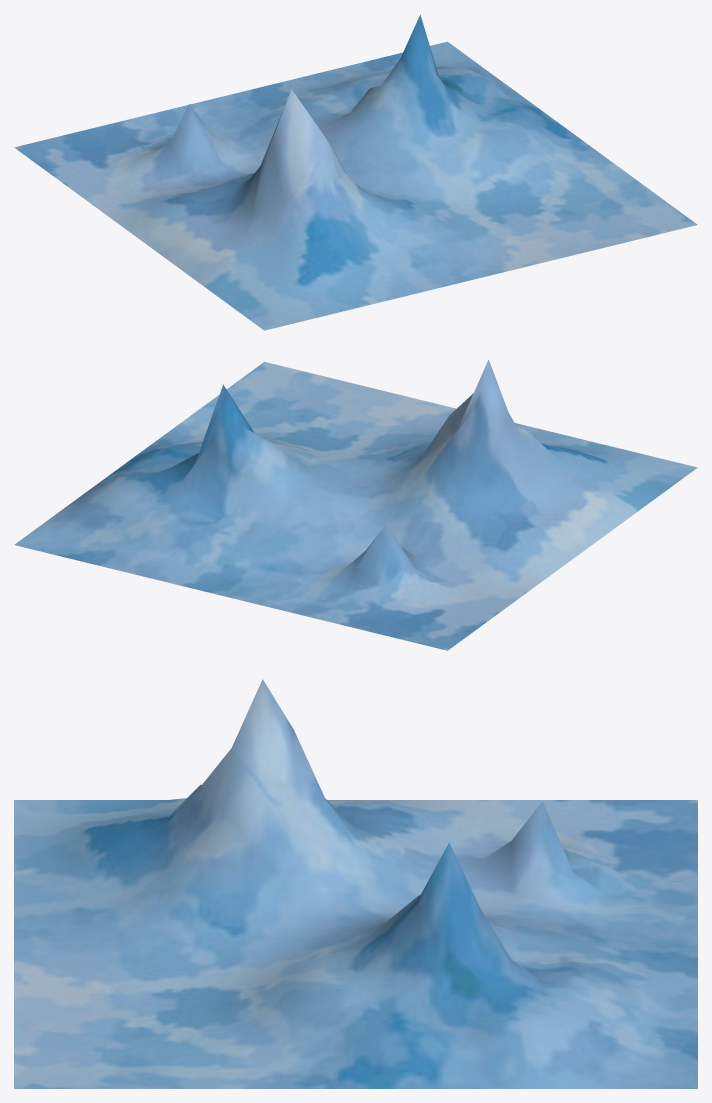
The model's file is caveterrain3.fbx.
The picture shows the model from 3 angles, top to bottom: view 1: azimuth 30°, elevation 25°; view 2: azimuth 150°, elevation 25°; view 3: azimuth 270°, elevation 25°; orthographic projection. The views are drawn at different scales.
Visible parts, largest first — view 1: Plane.003; view 2: Plane.003; view 3: Plane.003.
Boxes of the visible parts, <box> form: Plane.003: <box>14,14,697,330</box>; Plane.003: <box>14,359,697,650</box>; Plane.003: <box>14,679,697,1088</box>.
Size of the model in its own units: 3387 by 1103 by 3387.
